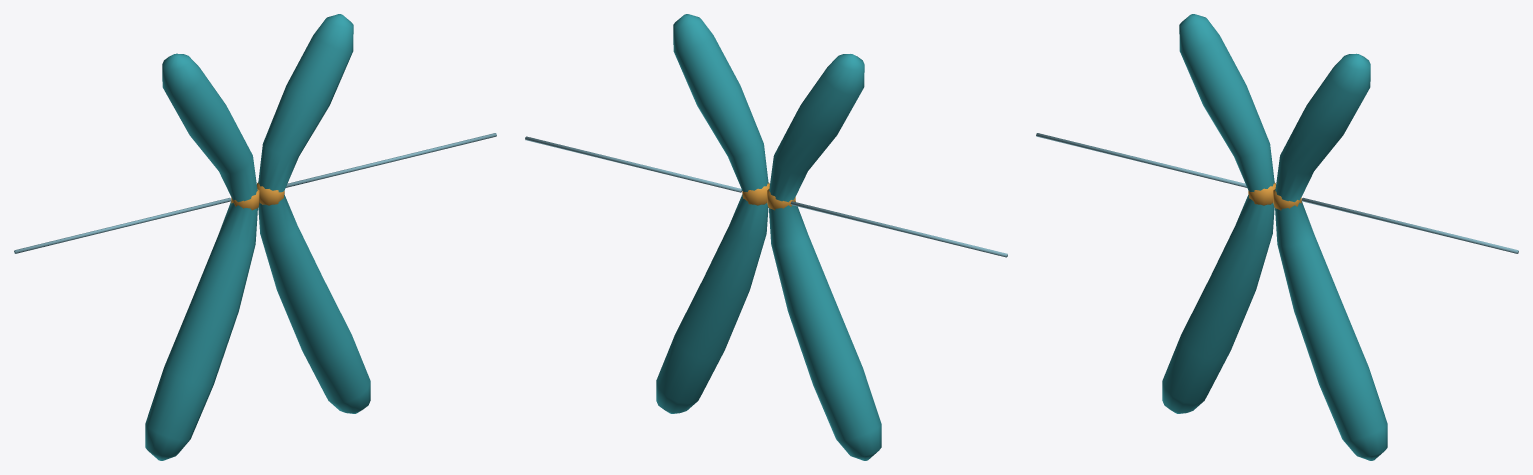
Rendered from VLAB_chromosome_overlay.fbx.
3 views of the same model, side by side, from view 1: azimuth 30°, elevation 25°; view 2: azimuth 150°, elevation 25°; view 3: azimuth 330°, elevation 25° (orthographic).
Visible parts, largest first — view 1: VLAB_chromosome_overlay_Chromatids_Left_VIS, VLAB_chromosome_overlay_Chromatids_Right_VIS, VLAB_chromosome_overlay_SpindleGuide_Left_VIS, VLAB_chromosome_overlay_SpindleGuide_Right_VIS; view 2: VLAB_chromosome_overlay_Chromatids_Left_VIS, VLAB_chromosome_overlay_Chromatids_Right_VIS, VLAB_chromosome_overlay_SpindleGuide_Left_VIS, VLAB_chromosome_overlay_SpindleGuide_Right_VIS; view 3: VLAB_chromosome_overlay_Chromatids_Right_VIS, VLAB_chromosome_overlay_Chromatids_Left_VIS, VLAB_chromosome_overlay_SpindleGuide_Right_VIS, VLAB_chromosome_overlay_SpindleGuide_Left_VIS.
Boxes of the visible parts, bbox=[...] form: VLAB_chromosome_overlay_Chromatids_Left_VIS: bbox=[145, 53, 257, 460]; VLAB_chromosome_overlay_Chromatids_Right_VIS: bbox=[258, 14, 370, 413]; VLAB_chromosome_overlay_SpindleGuide_Left_VIS: bbox=[14, 197, 231, 253]; VLAB_chromosome_overlay_SpindleGuide_Right_VIS: bbox=[286, 133, 496, 187]; VLAB_chromosome_overlay_Chromatids_Left_VIS: bbox=[769, 54, 881, 460]; VLAB_chromosome_overlay_Chromatids_Right_VIS: bbox=[656, 14, 768, 413]; VLAB_chromosome_overlay_SpindleGuide_Left_VIS: bbox=[790, 201, 1007, 257]; VLAB_chromosome_overlay_SpindleGuide_Right_VIS: bbox=[525, 136, 742, 192]; VLAB_chromosome_overlay_Chromatids_Right_VIS: bbox=[1275, 53, 1387, 460]; VLAB_chromosome_overlay_Chromatids_Left_VIS: bbox=[1162, 14, 1274, 413]; VLAB_chromosome_overlay_SpindleGuide_Right_VIS: bbox=[1301, 197, 1518, 253]; VLAB_chromosome_overlay_SpindleGuide_Left_VIS: bbox=[1036, 133, 1246, 187].
Bounding box in the file's own units: 0.23 × 0.183 × 0.022.
